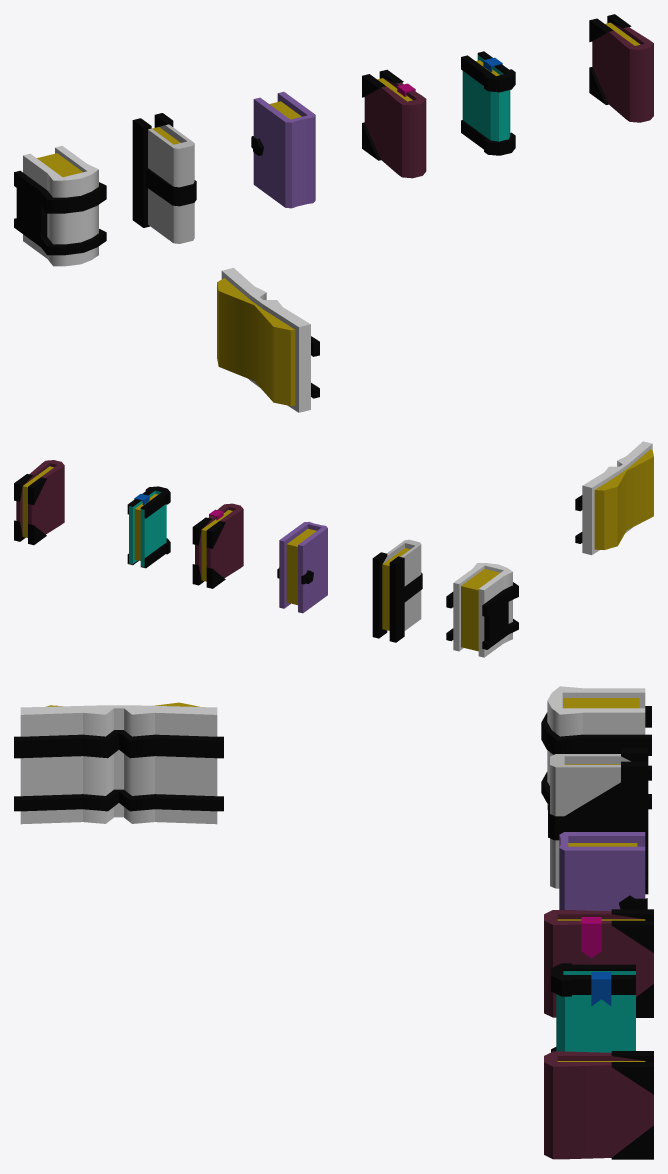
The model's file is Bookset.fbx.
3 renders of one model, top to bottom at view 1: azimuth 30°, elevation 25°; view 2: azimuth 150°, elevation 25°; view 3: azimuth 270°, elevation 25°, orthographic. The views are drawn at different scales.
Visible parts, largest first — view 1: Book_Open_Thick, Book_Closed_Thick, Book_Closed_Wedge, Book_Closed_Diary, Book_Closed_Pully, Book_Closed_CornerMetal, Book_Closed_TopBottomMetal; view 2: Book_Open_Thick, Book_Closed_Thick, Book_Closed_Wedge, Book_Closed_Diary, Book_Closed_Pully, Book_Closed_CornerMetal, Book_Closed_TopBottomMetal; view 3: Book_Open_Thick, Book_Closed_Pully, Book_Closed_Wedge, Book_Closed_Thick, Book_Closed_Diary, Book_Closed_CornerMetal, Book_Closed_TopBottomMetal, Book_Mark_Triangle.
Boxes of the visible parts, <box> form: Book_Open_Thick: <box>217,268,319,412</box>; Book_Closed_Thick: <box>14,145,106,266</box>; Book_Closed_Wedge: <box>132,113,196,243</box>; Book_Closed_Diary: <box>251,91,315,208</box>; Book_Closed_Pully: <box>589,14,653,122</box>; Book_Closed_CornerMetal: <box>362,69,426,178</box>; Book_Closed_TopBottomMetal: <box>461,51,515,155</box>; Book_Open_Thick: <box>575,441,653,555</box>; Book_Closed_Thick: <box>446,563,518,657</box>; Book_Closed_Wedge: <box>372,539,422,642</box>; Book_Closed_Diary: <box>277,522,327,613</box>; Book_Closed_Pully: <box>14,460,64,545</box>; Book_Closed_CornerMetal: <box>192,503,243,588</box>; Book_Closed_TopBottomMetal: <box>127,486,170,568</box>; Book_Open_Thick: <box>14,702,223,824</box>; Book_Closed_Pully: <box>544,1051,653,1159</box>; Book_Closed_Wedge: <box>548,748,648,894</box>; Book_Closed_Thick: <box>541,686,651,809</box>; Book_Closed_Diary: <box>559,832,647,911</box>; Book_Closed_CornerMetal: <box>544,909,653,1017</box>; Book_Closed_TopBottomMetal: <box>551,963,635,1052</box>; Book_Mark_Triangle: <box>581,917,601,958</box>.
Bounding box in the file's own units: 555 × 87.83 × 399.
